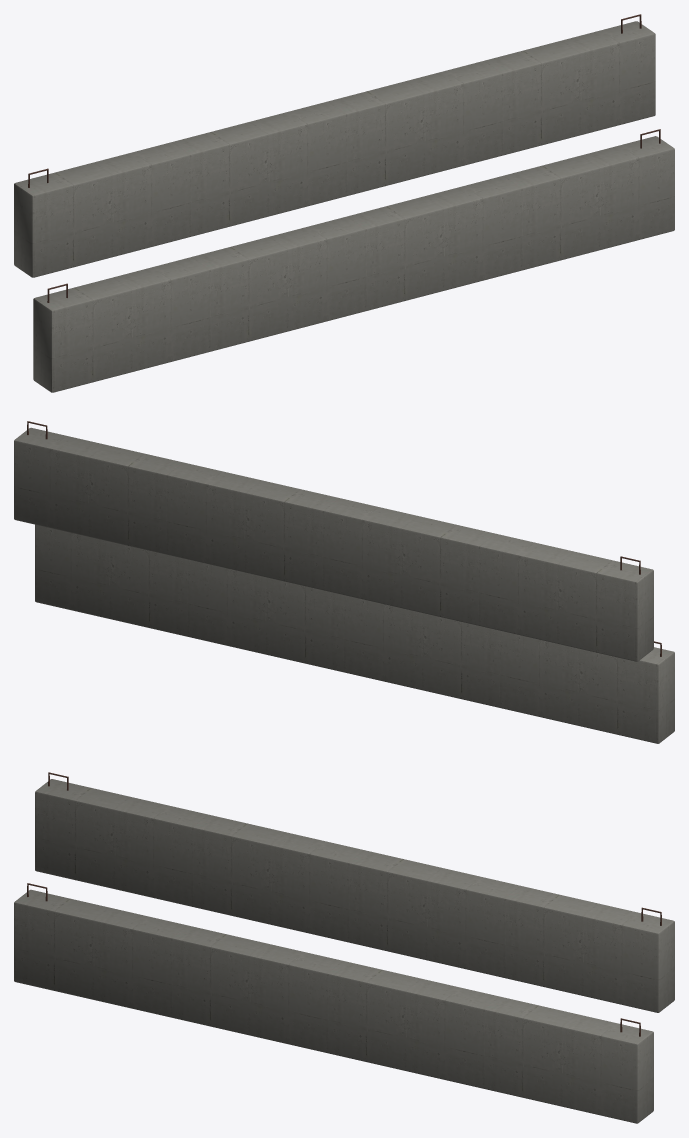
The model's file is EST-PRE-002_anim.glb.
The picture shows the model from 3 angles, top to bottom: view 1: azimuth 30°, elevation 25°; view 2: azimuth 150°, elevation 25°; view 3: azimuth 330°, elevation 25°; orthographic projection. The views are drawn at different scales.
Visible parts, largest first — view 1: EST-PRE-002_anim1, EST-PRE-002_anim0; view 2: EST-PRE-002_anim1, EST-PRE-002_anim0; view 3: EST-PRE-002_anim0, EST-PRE-002_anim1.
Boxes of the visible parts, x1,y1,x2,y2 form: EST-PRE-002_anim1: [14, 14, 655, 277]; EST-PRE-002_anim0: [33, 129, 674, 392]; EST-PRE-002_anim1: [14, 421, 653, 661]; EST-PRE-002_anim0: [35, 524, 674, 743]; EST-PRE-002_anim0: [14, 883, 653, 1123]; EST-PRE-002_anim1: [35, 772, 674, 1012].
Bounding box in the file's own units: 4.01 × 1.18 × 0.5389.
2 materials, 2 textured.
